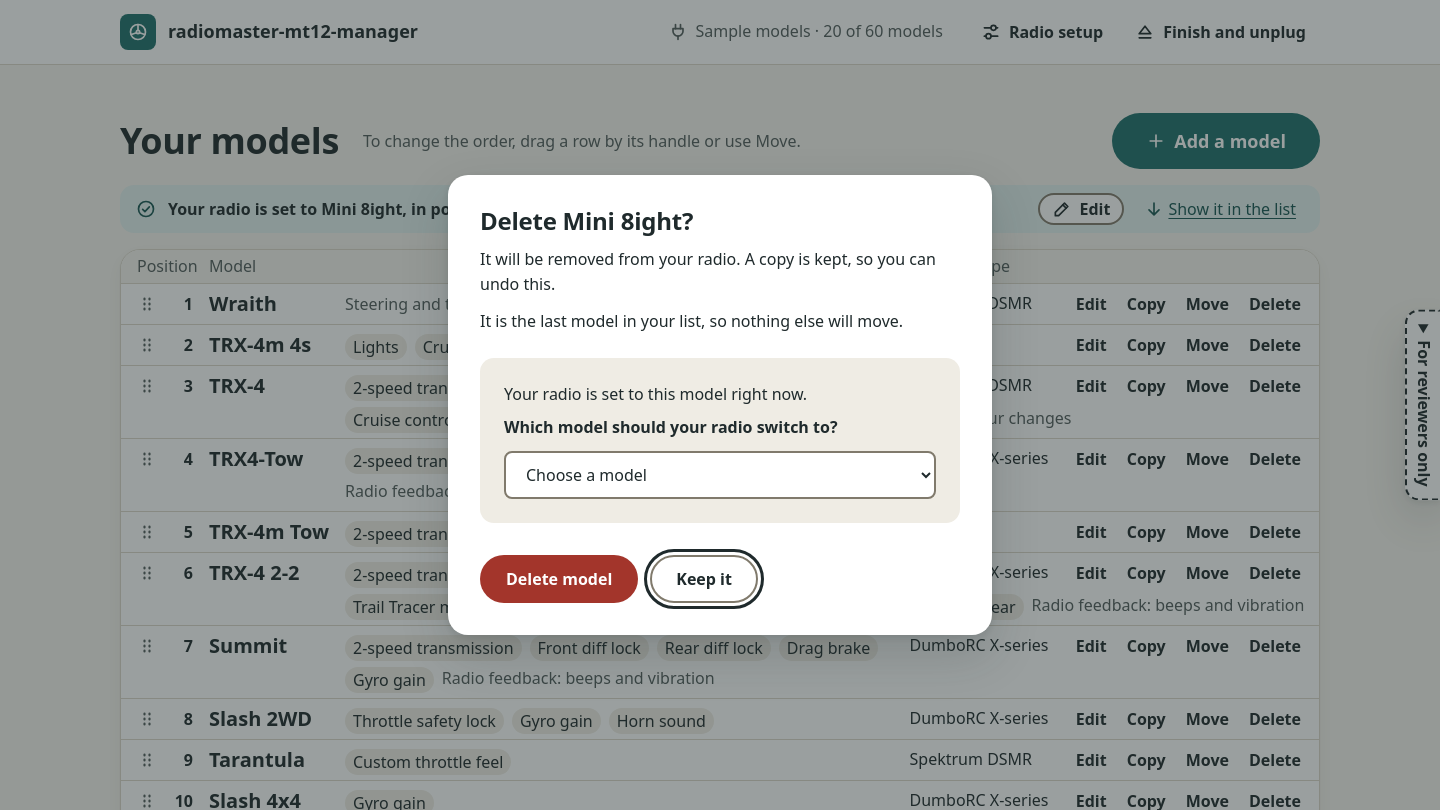
Delete names the model and will not delete the current model until another is picked
Expected: the button "Keep it" is shown, [650, 555, 758, 603]
Expected: the text "It is the last model in your list, so nothing else will move." is shown, [480, 309, 960, 334]
What coordinates should you click on to do the following:
click the button "Delete model"
I would click on:
 (559, 579)
Its box is [480, 555, 638, 603].
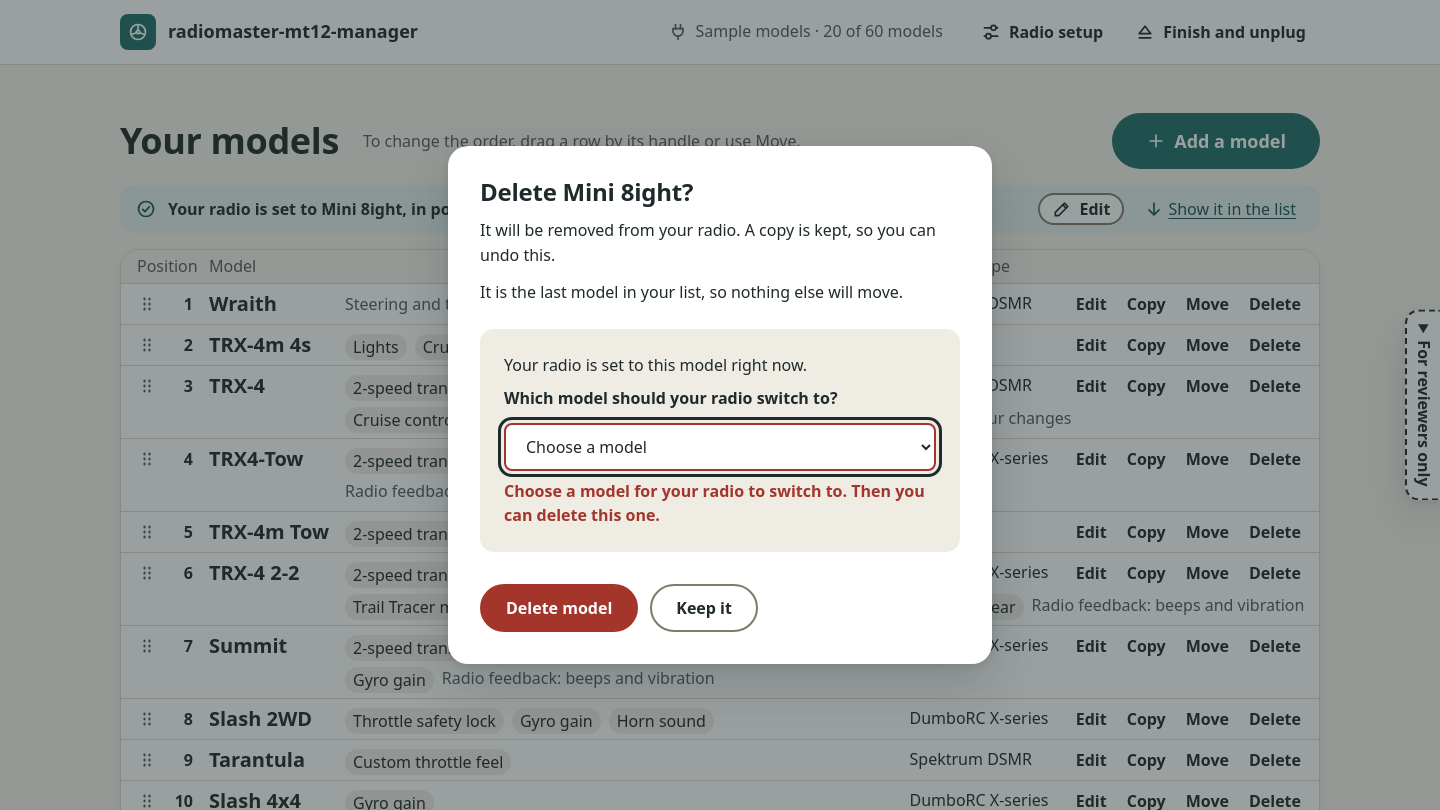
Result: the text "Choose a model for your radio to switch to. Then you can delete this one." is shown at [504, 479, 936, 528]
